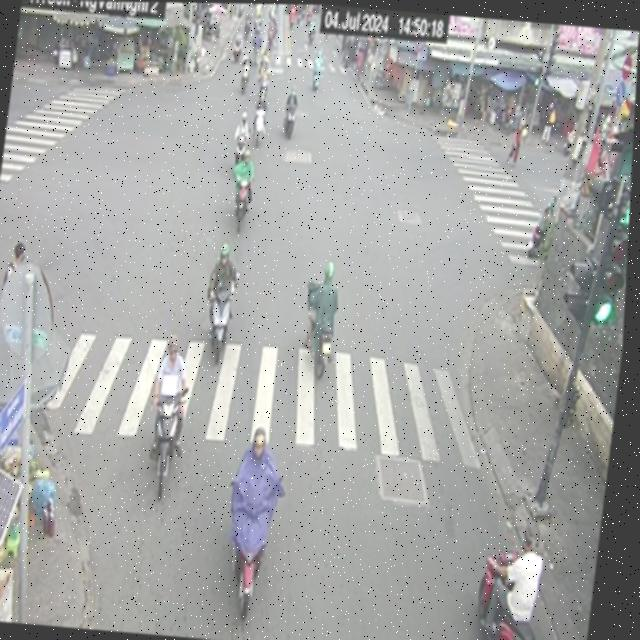Green: (591, 181, 633, 335)
